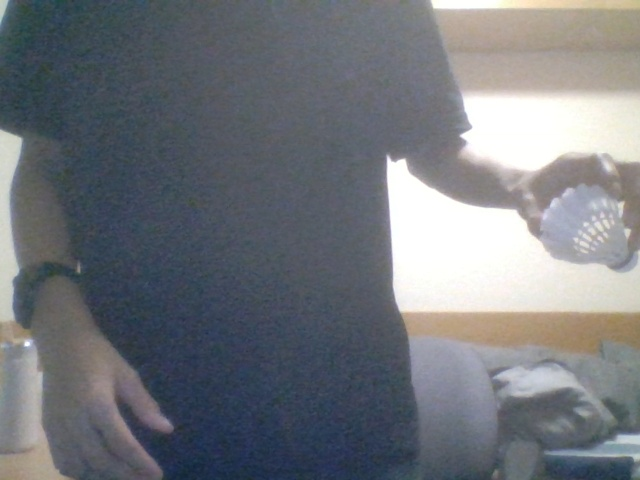shuttle: (539, 182, 637, 273)
